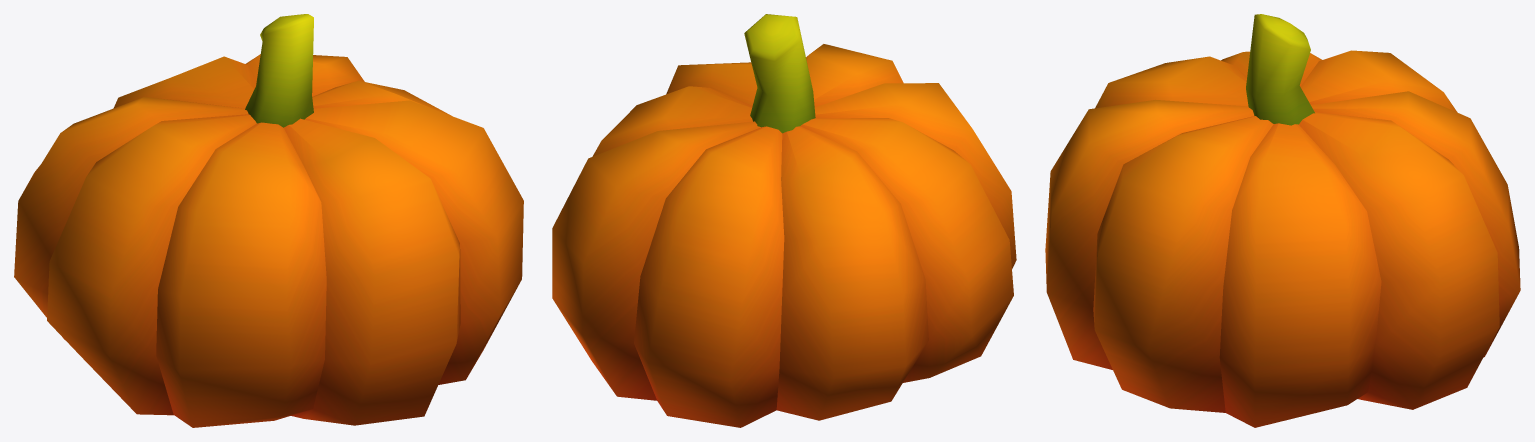
The model's file is pumpkin.glb.
The picture shows the model from 3 angles, left to right: view 1: azimuth 30°, elevation 25°; view 2: azimuth 150°, elevation 25°; view 3: azimuth 270°, elevation 25°; orthographic projection. The views are drawn at different scales.
Parts seen in each view (by area): view 1: SM_Pumpkin2; view 2: SM_Pumpkin2; view 3: SM_Pumpkin2.
Boxes of the visible parts, x1,y1,x2,y2 form: SM_Pumpkin2: [14, 14, 523, 427]; SM_Pumpkin2: [552, 14, 1016, 427]; SM_Pumpkin2: [1045, 14, 1520, 427].
Bounding box in the file's own units: 0.8724 × 0.7123 × 0.8675.
1 material, 1 textured.
